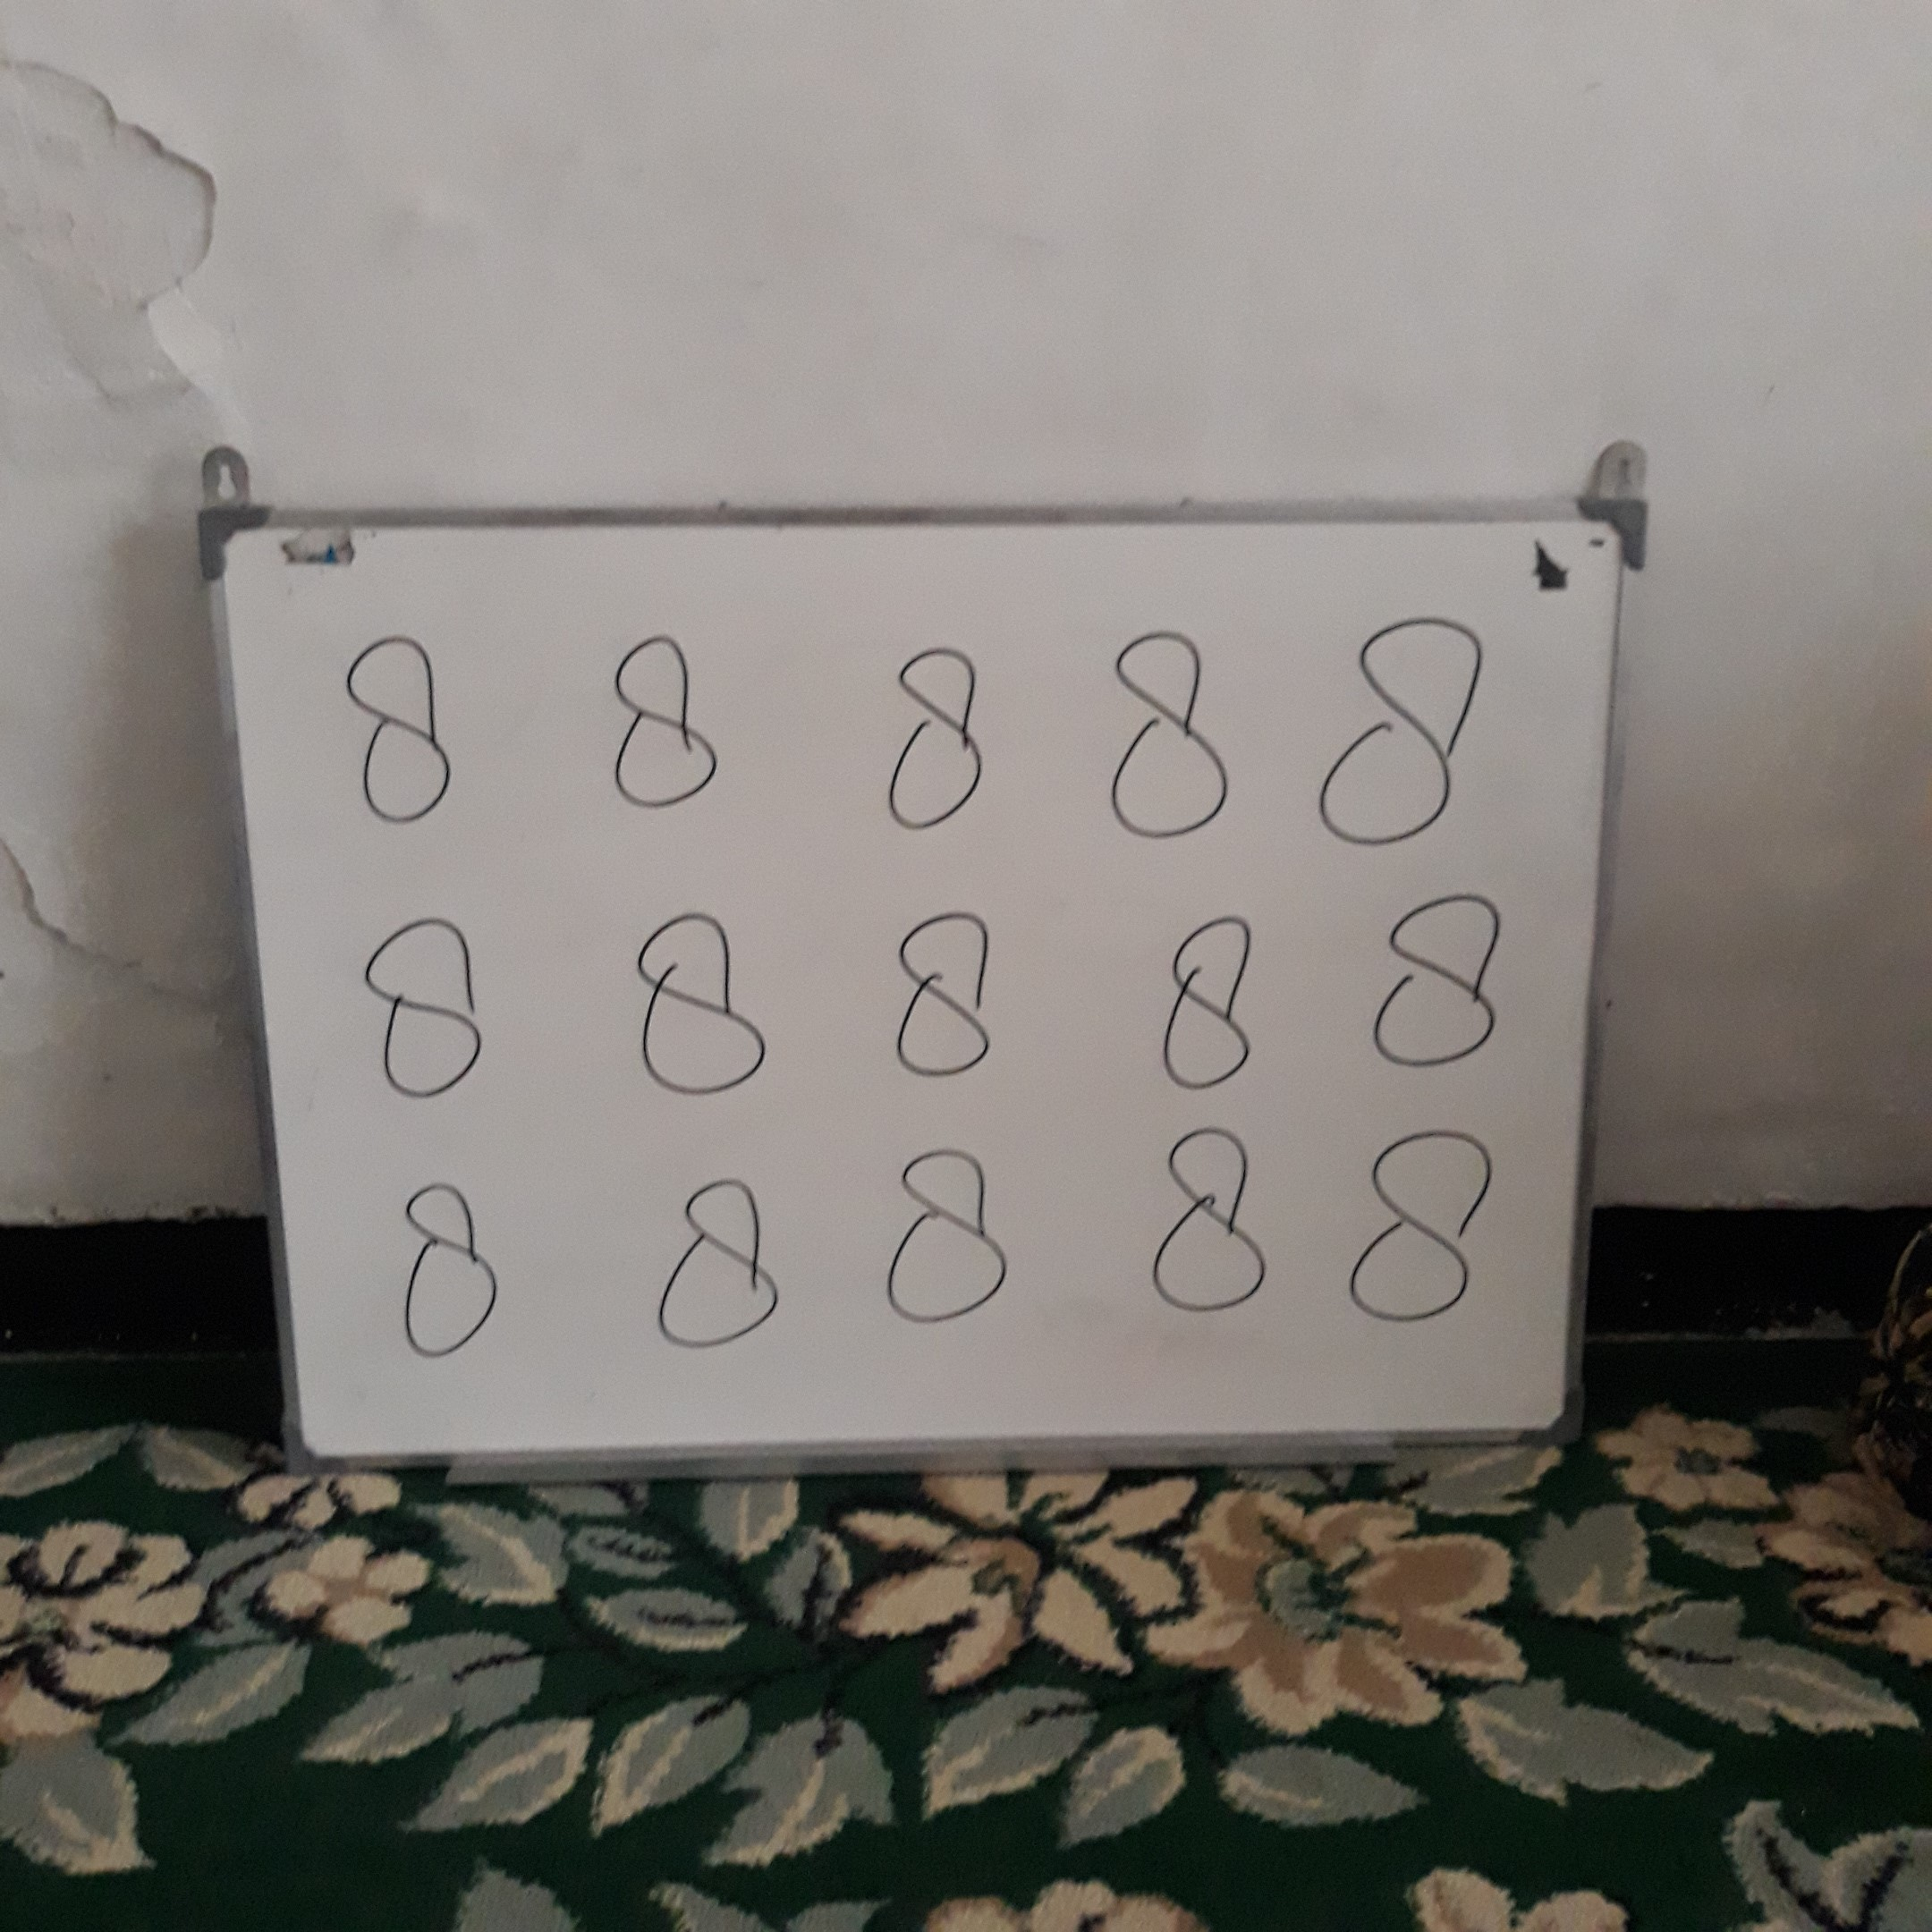num8: (1309, 605, 1500, 860), (623, 1158, 826, 1385), (347, 904, 538, 1128), (1124, 1124, 1316, 1344), (581, 606, 765, 837), (1338, 1119, 1513, 1341), (375, 1169, 547, 1396), (867, 901, 1049, 1112), (621, 904, 796, 1121), (1096, 615, 1249, 854), (1133, 897, 1297, 1119), (867, 1136, 1029, 1360), (1366, 882, 1530, 1095), (861, 623, 1013, 845), (332, 622, 468, 843)
